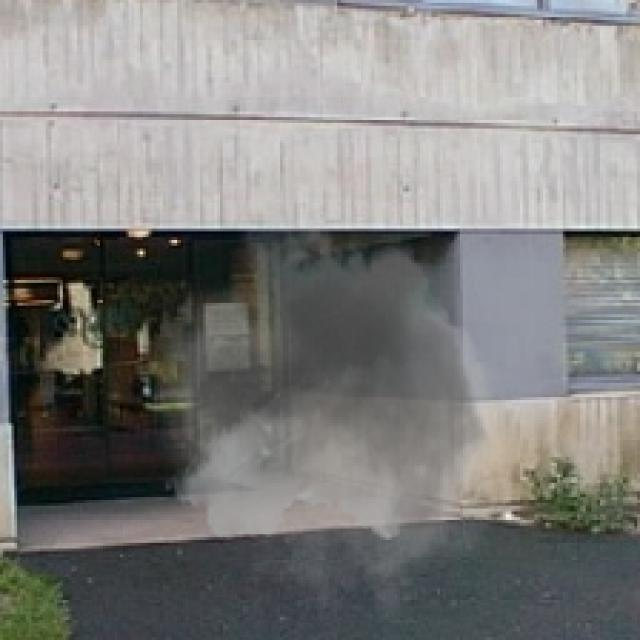smoke: (152, 200, 517, 626)
